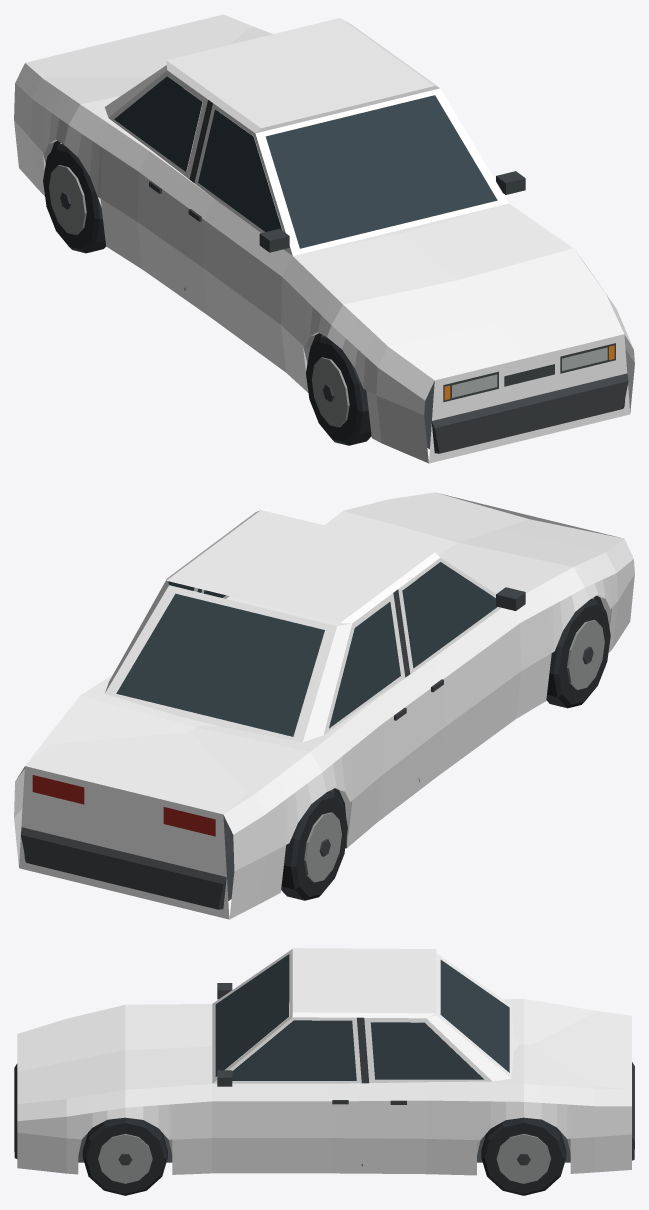
The model's file is ostwerk_gischt.glb.
3 views of the same model, one above another, from view 1: azimuth 30°, elevation 25°; view 2: azimuth 150°, elevation 25°; view 3: azimuth 270°, elevation 25° (orthographic). The views are drawn at different scales.
Visible parts, largest first — view 1: ostwerk_gischt; view 2: ostwerk_gischt; view 3: ostwerk_gischt.
Part boxes in pixels (bbox=[...]): ostwerk_gischt: bbox=[14, 14, 634, 463]; ostwerk_gischt: bbox=[14, 492, 634, 919]; ostwerk_gischt: bbox=[14, 948, 634, 1195].
Size of the model in its own units: 1.84 by 1.5 by 4.97.
8 materials, 1 textured.
